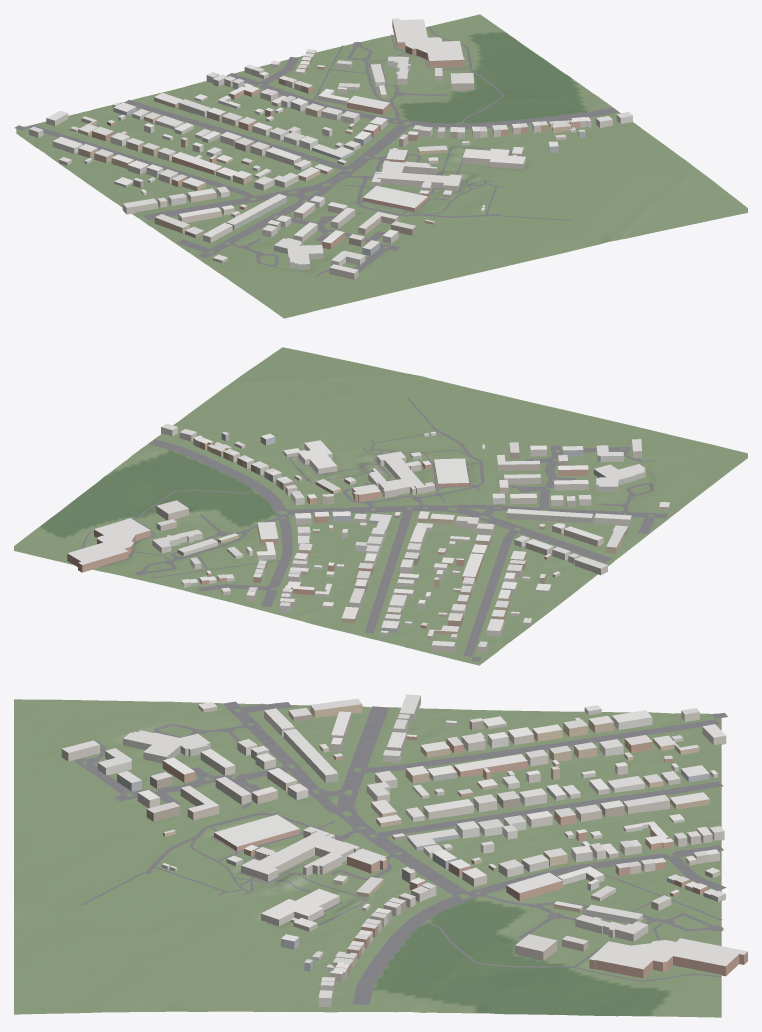
3 views of the same model, one above another, from view 1: azimuth 30°, elevation 25°; view 2: azimuth 150°, elevation 25°; view 3: azimuth 270°, elevation 25° (orthographic). The views are drawn at different scales.
Visible parts, largest first — view 1: prim0, prim1, prim2; view 2: prim0, prim1, prim2; view 3: prim0, prim1, prim2.
Part boxes in pixels (x1,y1,x2,y2): prim0: [16, 14, 747, 318]; prim1: [29, 18, 632, 279]; prim2: [14, 26, 617, 276]; prim0: [14, 347, 747, 665]; prim1: [67, 423, 669, 652]; prim2: [66, 397, 667, 661]; prim0: [14, 699, 721, 1017]; prim1: [61, 694, 747, 1007]; prim2: [74, 701, 727, 1004].
Bounding box in the file's own units: 523 × 22.75 × 531.
